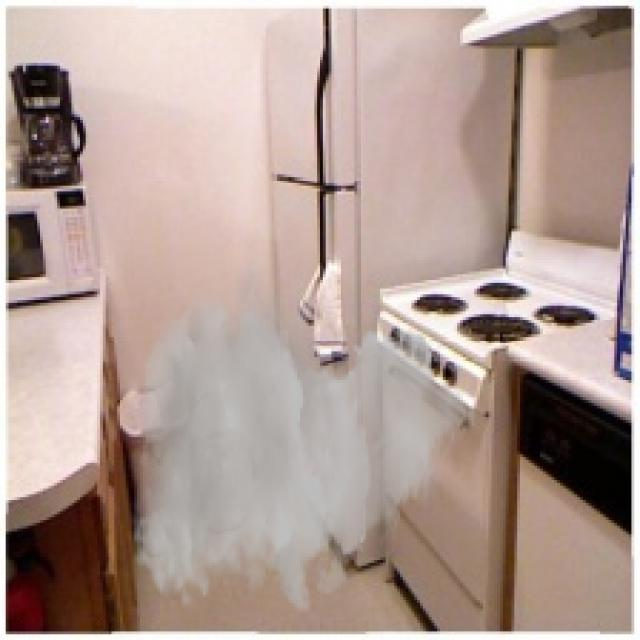Smoke: (132, 252, 477, 614)
